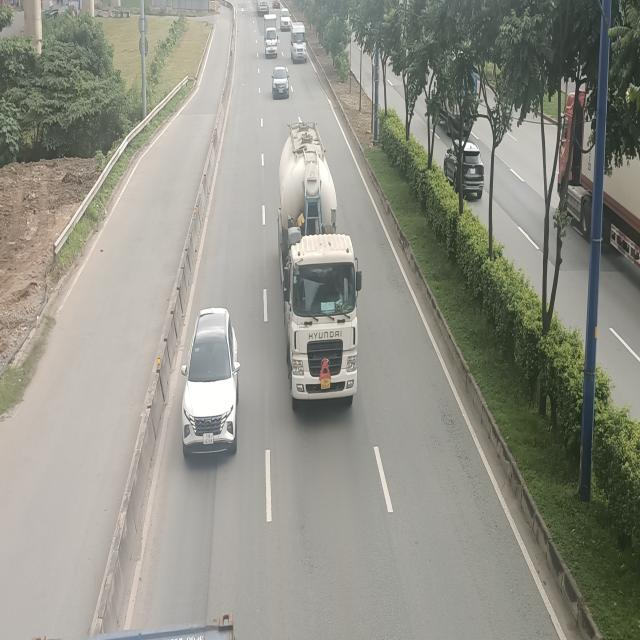car: (181, 305, 240, 453), (271, 65, 289, 99), (280, 8, 291, 30)
container: (277, 120, 362, 406)
truck: (264, 13, 278, 58)
van: (290, 22, 306, 65)
